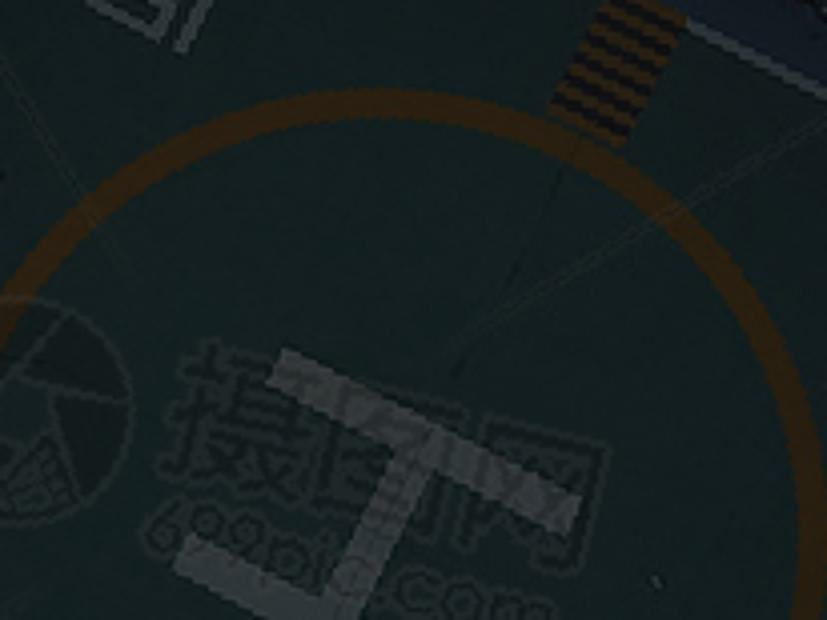Apron: (1, 67, 827, 620)
